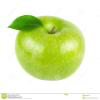Apple leaf: (5, 13, 46, 31)
